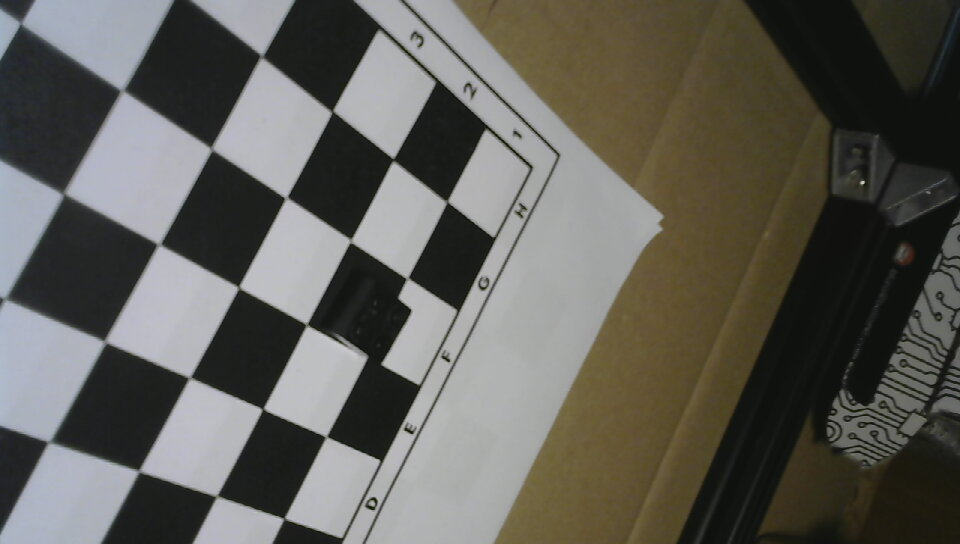bp: (321, 268, 416, 365)
